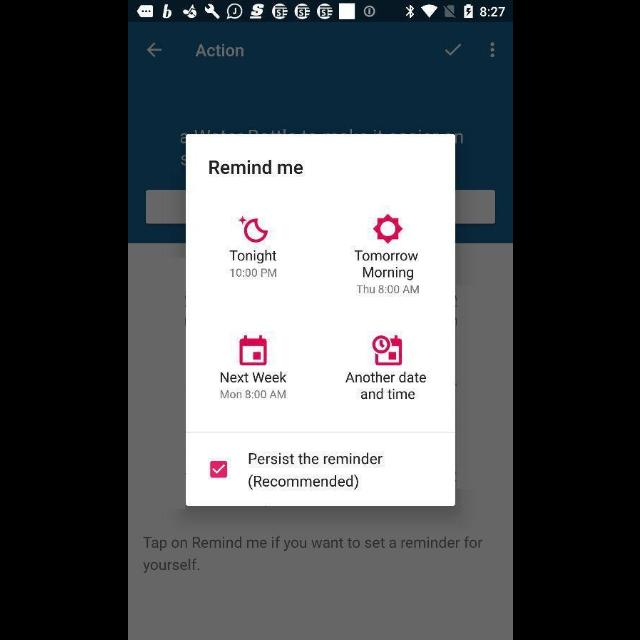checkbox: (209, 461, 227, 479)
icon: (371, 336, 401, 366), (239, 336, 267, 366), (146, 44, 162, 58), (444, 44, 460, 56), (490, 42, 494, 58)
image: (372, 214, 402, 244), (238, 216, 268, 244)
panel: (186, 136, 454, 507)
text: (142, 536, 482, 574), (248, 452, 382, 490), (344, 372, 426, 401), (354, 251, 418, 281), (208, 160, 302, 176), (220, 371, 286, 383), (194, 44, 243, 58), (228, 250, 276, 264), (220, 390, 286, 400), (356, 286, 418, 294), (230, 268, 276, 278)
uppertaskbar: (128, 1, 512, 23)
